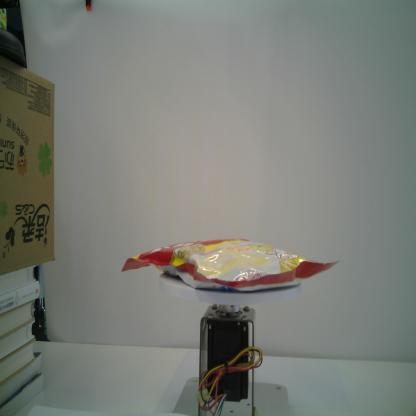Instant Drink: (120, 238, 340, 294)
